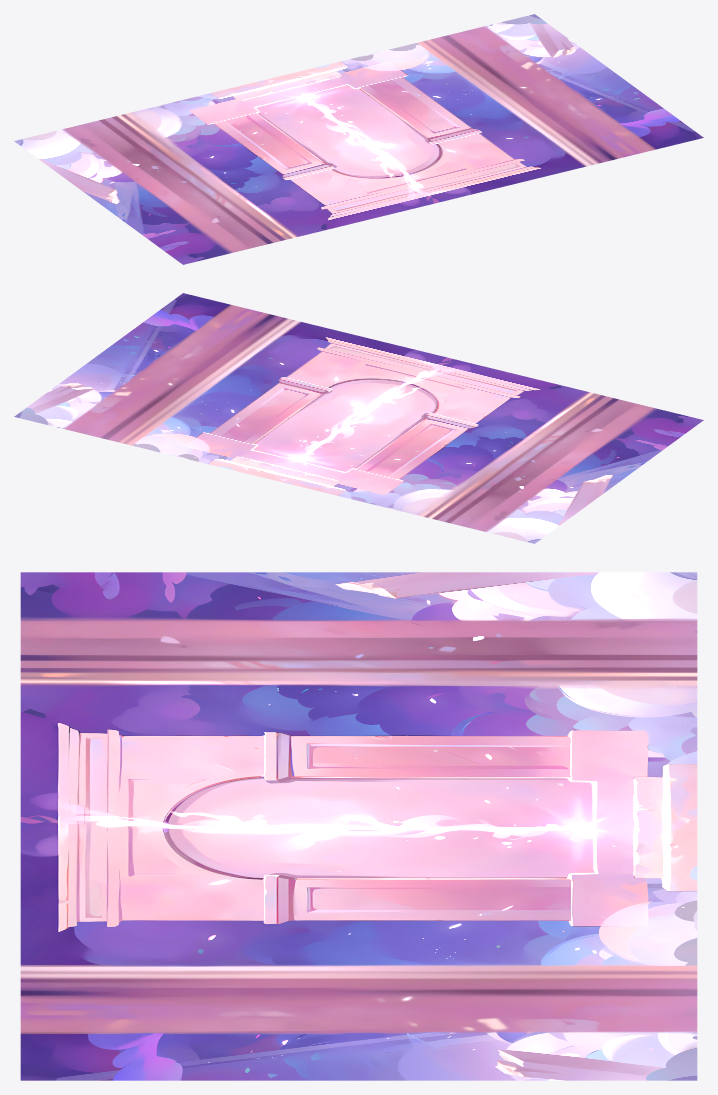
File: cs_door.glb
The picture shows the model from 3 angles, top to bottom: view 1: azimuth 30°, elevation 25°; view 2: azimuth 150°, elevation 25°; view 3: azimuth 270°, elevation 25°; orthographic projection. The views are drawn at different scales.
Parts seen in each view (by area): view 1: 01; view 2: 01; view 3: 01.
Part boxes in pixels (<box>): 01: <box>14,14,703,264</box>; 01: <box>14,293,703,543</box>; 01: <box>20,572,697,1080</box>.
Bounding box in the file's own units: 38.4 × 0 × 21.6.
16 materials, 16 textured.
